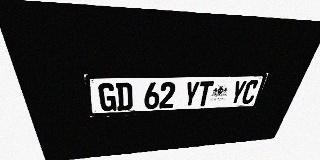2: (159, 82, 176, 108)
6: (144, 82, 160, 109)
C: (240, 80, 260, 104)
D: (116, 83, 132, 111)
G: (98, 83, 117, 111)
T: (196, 81, 214, 106)
Y: (228, 80, 248, 105), (183, 81, 200, 107)
